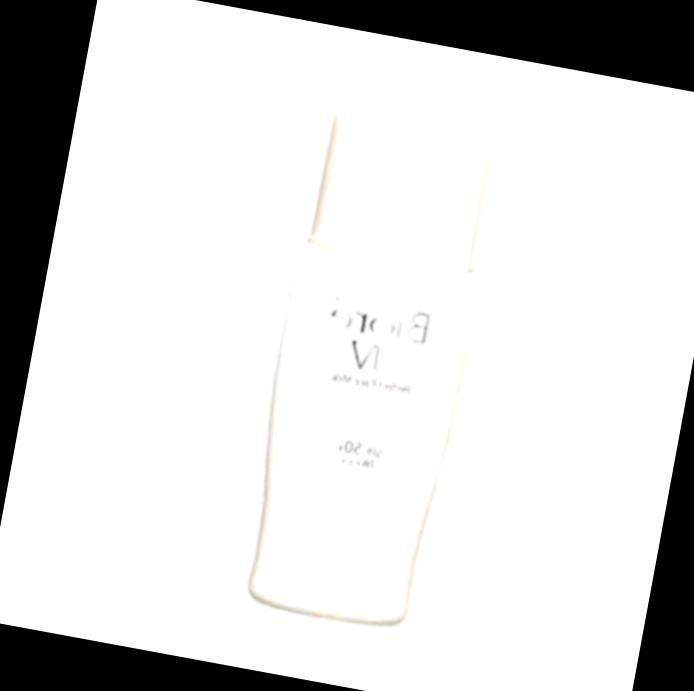cosmetic: (230, 104, 501, 635)
